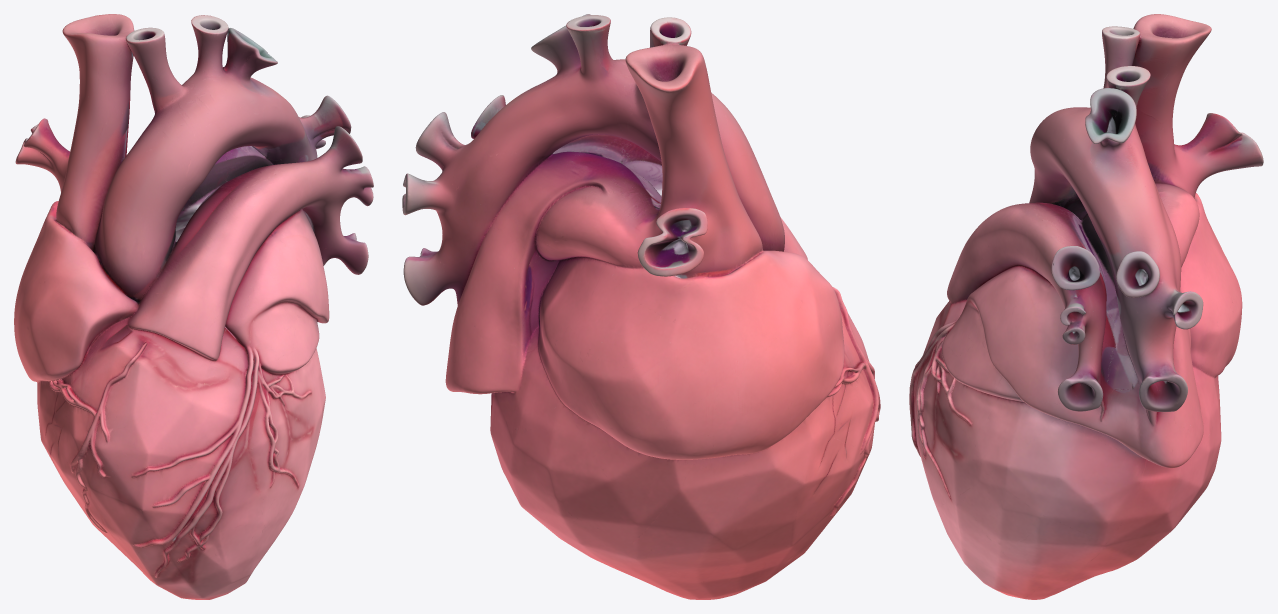
File: heart.glb
3 views of the same model, side by side, from view 1: azimuth 30°, elevation 25°; view 2: azimuth 150°, elevation 25°; view 3: azimuth 270°, elevation 25° (orthographic). The views are drawn at different scales.
Size of the model in its own units: 1.24 by 1.9 by 1.09.
1 material, 1 textured.
